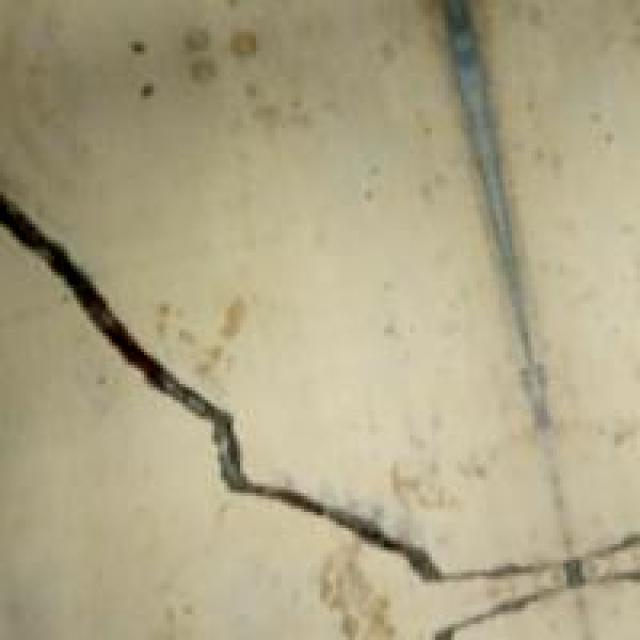crack: (0, 182, 640, 632)
